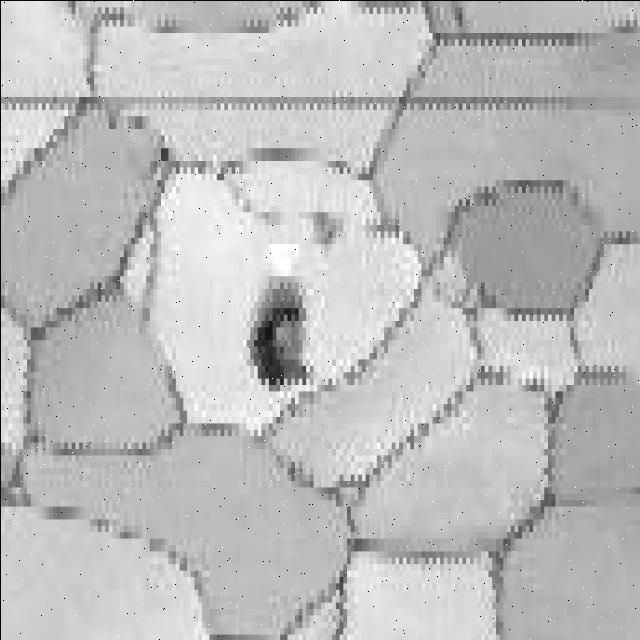good_void: (247, 276, 312, 389)
